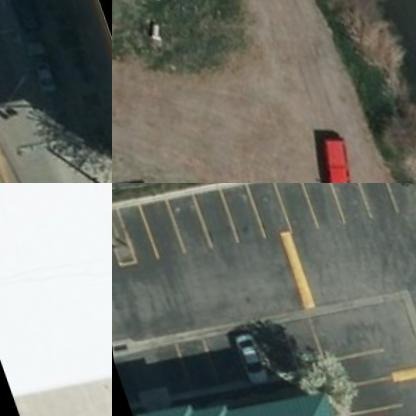car: (295, 121, 360, 182), (220, 324, 269, 389), (12, 31, 57, 100), (0, 0, 34, 21)
